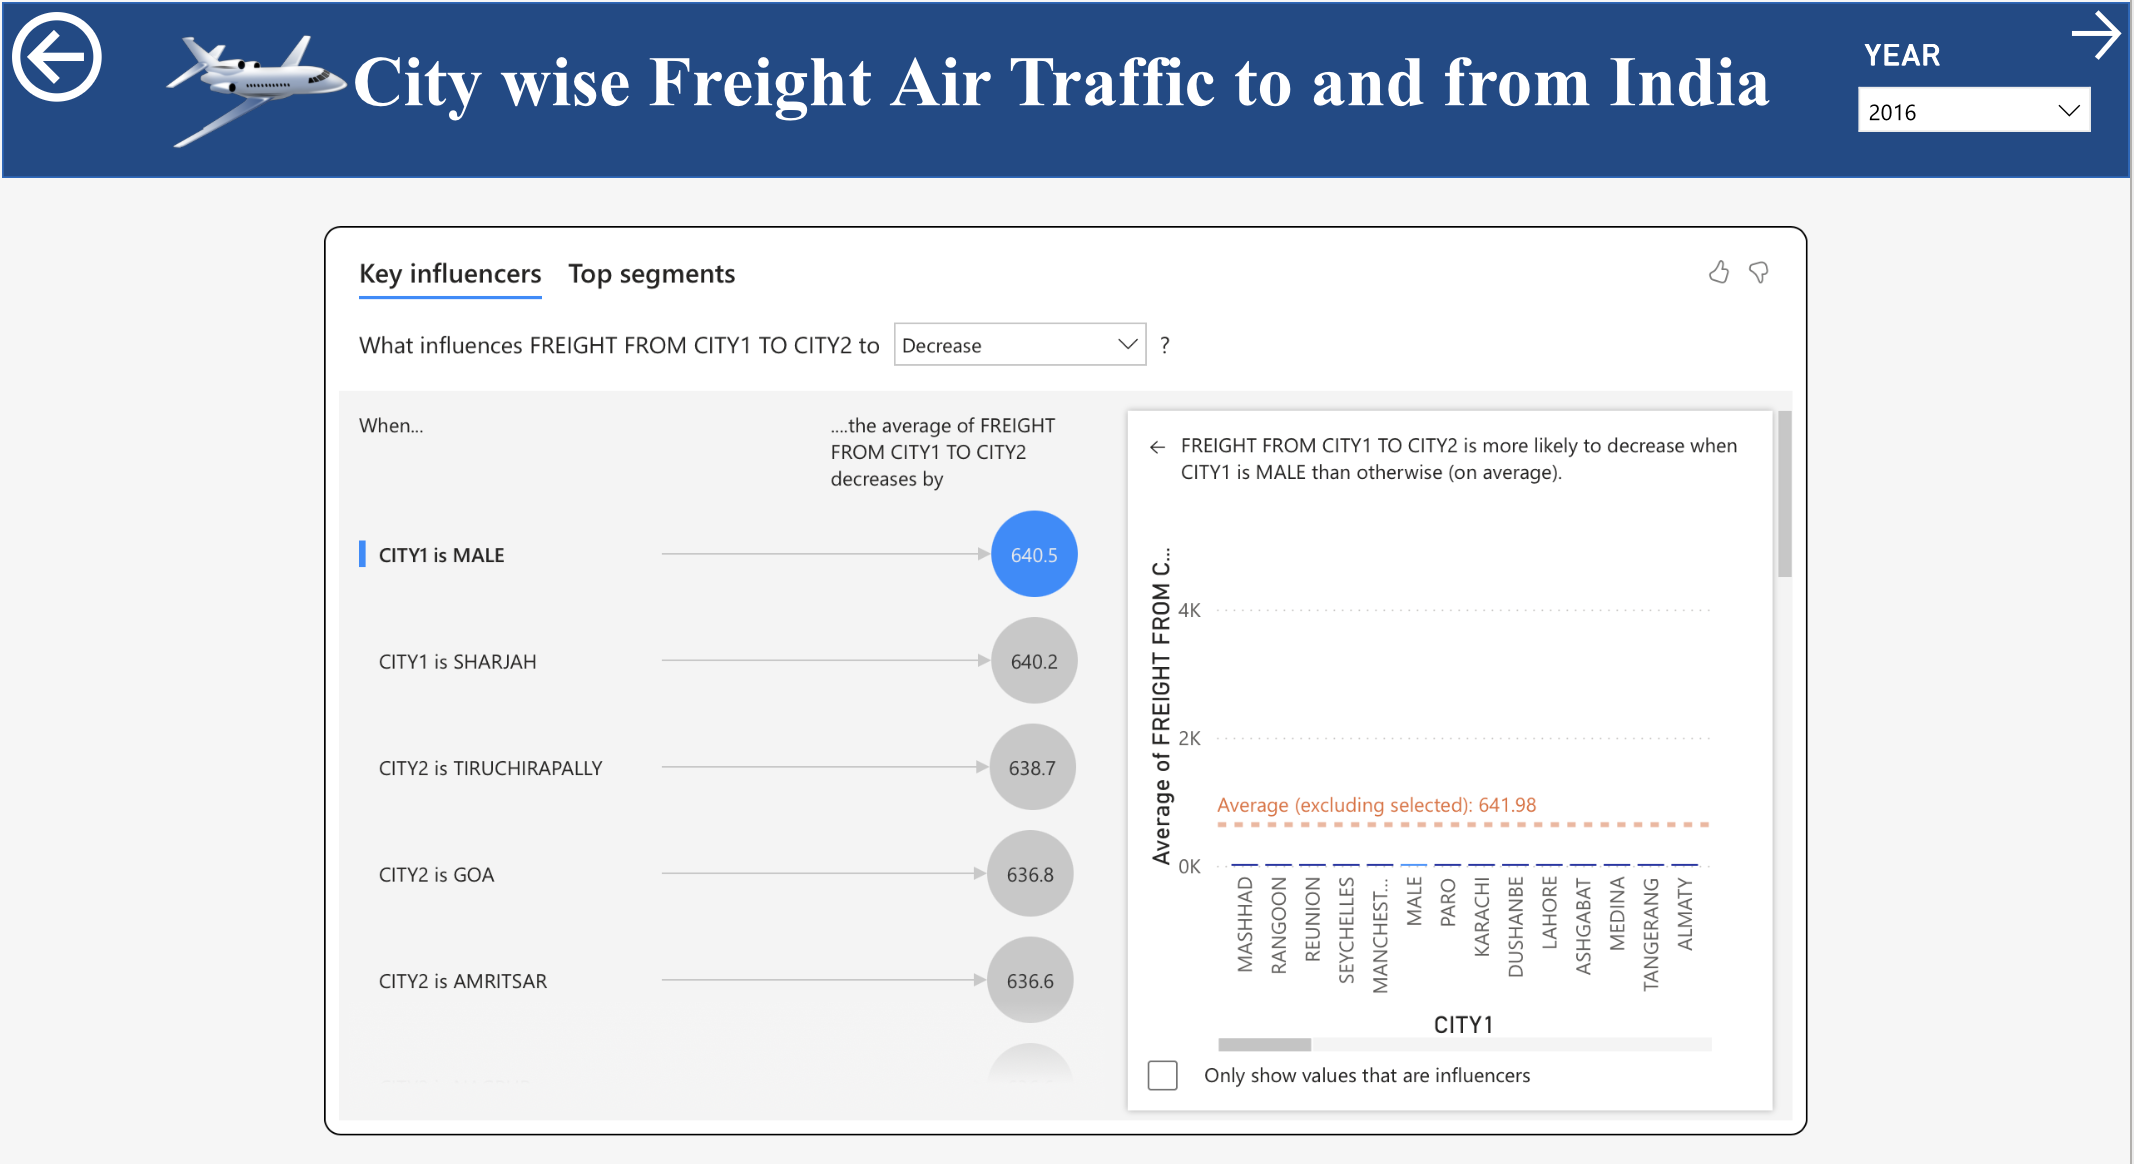

This screenshot's page, from the dashboard's own definition file:
{"tool":"powerbi","page":{"name":"Key Influencers","canvas":[1280,720],"ordinal":8},"visuals":[{"type":"shape","box":[1.4,10,1278.6,105.8],"z":0},{"type":"keyDriversVisual","fields":{"ExplainBy":["Citypairwise Quarterly Freight Air Traffic.CITY2","Citypairwise Quarterly Freight Air Traffic.CITY1","Citypairwise Quarterly Freight Air Traffic.QUARTER"],"Target":["Citypairwise Quarterly Freight Air Traffic.FREIGHT FROM CITY1 TO CITY2"]},"box":[195,144.2,891.3,546.6],"z":1000},{"type":"actionButton","box":[1.4,9.6,145.6,65.9],"z":2000},{"type":"image","box":[61.8,2.7,185.4,120.9],"z":3000},{"type":"textbox","box":[206.2,27.7,891.3,69.9],"z":4000},{"type":"slicer","fields":{"Values":["Citypairwise Quarterly Freight Air Traffic.YEAR"]},"box":[1107,27.5,159.3,92],"z":5000},{"type":"actionButton","box":[1238.6,9.6,41,39.8],"z":6000}]}

Visuals, with their boxes on the page's 1280x720 design canvas (x1, y1, x2, y2). These are canvas units, not pixel positions in the 2134x1164 screenshot, which may show the page scaled, cropped or inside an application window:
shape: box(1, 10, 1280, 116)
keyDriversVisual - Citypairwise Quarterly Freight Air Traffic.CITY2 x Citypairwise Quarterly Freight Air Traffic.CITY1: box(195, 144, 1086, 691)
actionButton: box(1, 10, 147, 76)
image: box(62, 3, 247, 124)
textbox: box(206, 28, 1098, 98)
slicer - Citypairwise Quarterly Freight Air Traffic.YEAR: box(1107, 28, 1266, 120)
actionButton: box(1239, 10, 1280, 49)
